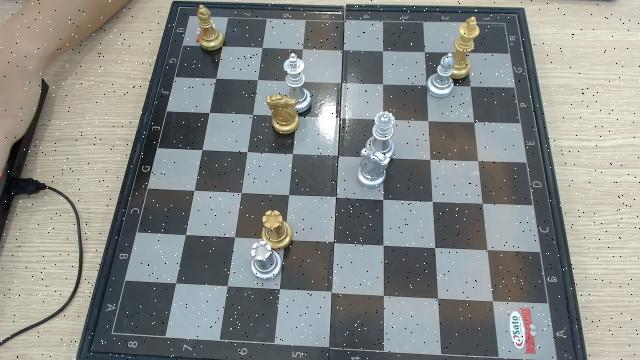black_bishop: (195, 4, 224, 51)
black_king: (453, 17, 480, 78)
black_knight: (266, 95, 300, 135)
black_rook: (260, 209, 292, 246)
white_bishop: (426, 53, 454, 98)
white_king: (282, 51, 312, 96)
white_knight: (355, 148, 391, 188)
white_queen: (366, 111, 396, 148)
white_rook: (248, 240, 285, 281)
